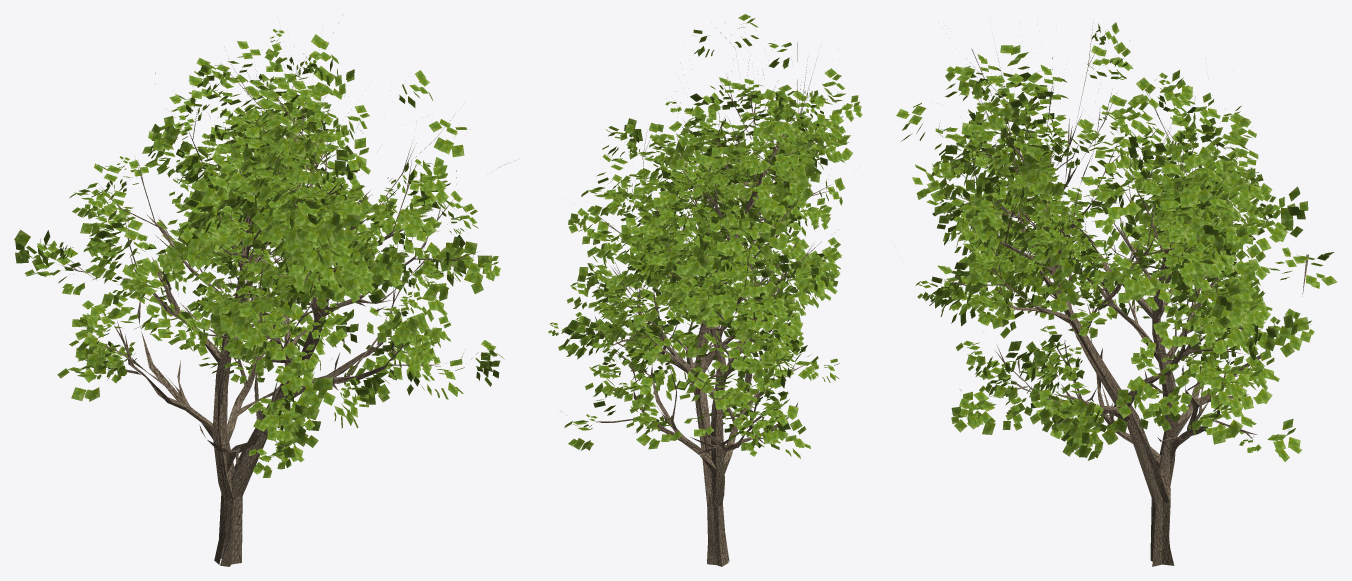
File: playgroundTest.glb
3 renders of one model, left to right at view 1: azimuth 30°, elevation 25°; view 2: azimuth 150°, elevation 25°; view 3: azimuth 270°, elevation 25°, orthographic. The views are drawn at different scales.
Visible parts, largest first — view 1: tree000; view 2: tree000; view 3: tree000.
Boxes of the visible parts, <box> form: tree000: <box>14,23,504,566</box>; tree000: <box>548,14,862,566</box>; tree000: <box>896,22,1337,566</box>.
Size of the model in its own units: 7.62 by 11.98 by 8.87.
Materials: 2 (2 with a texture image).
